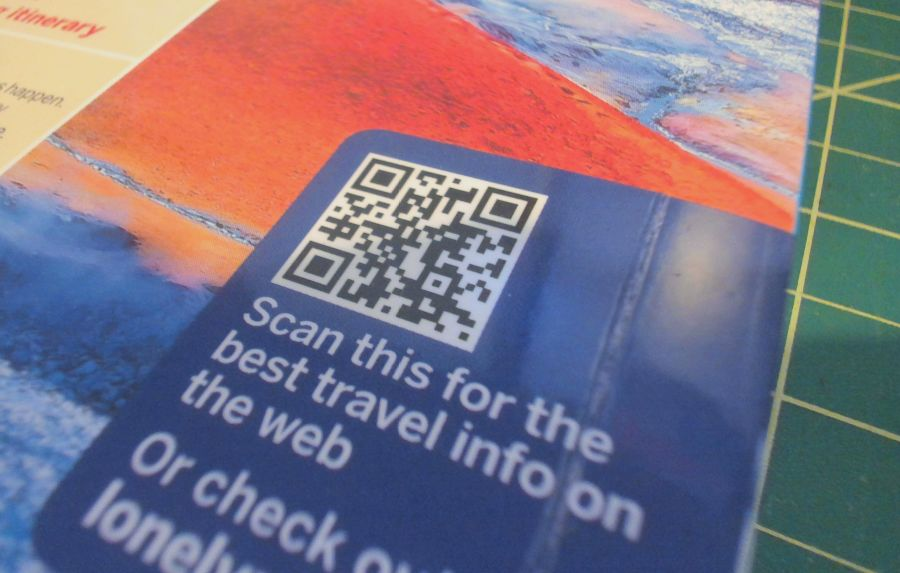QR_CODE: (265, 132, 545, 352)
